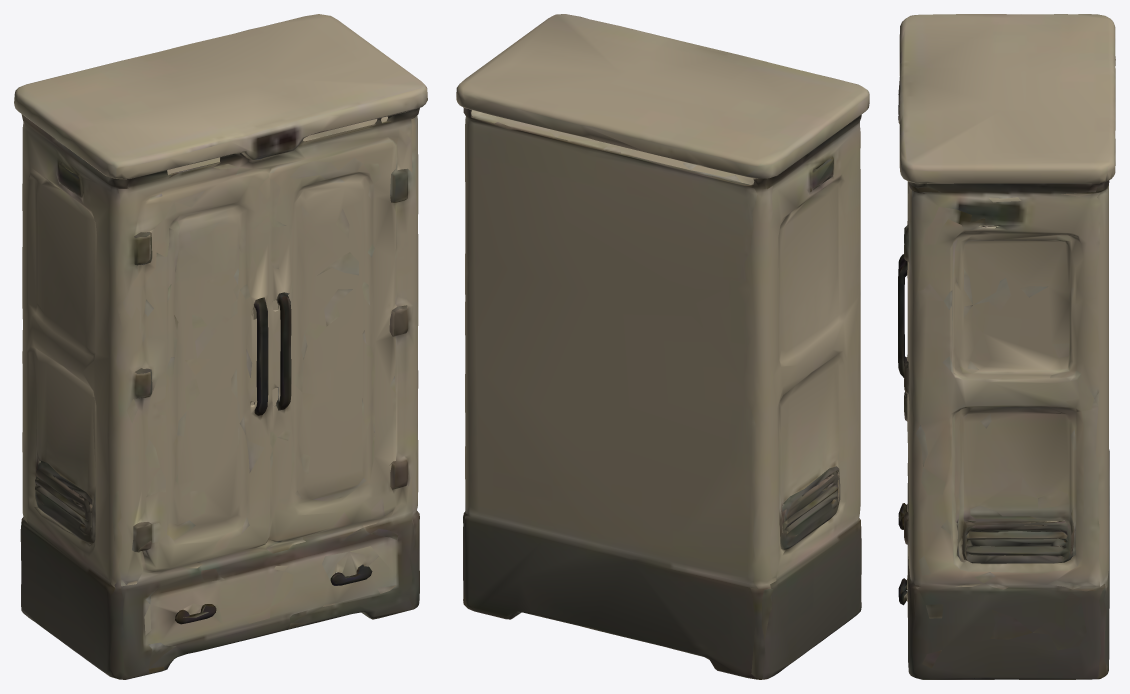
Rendered from wardrobe.glb.
3 renders of one model, left to right at view 1: azimuth 30°, elevation 25°; view 2: azimuth 150°, elevation 25°; view 3: azimuth 270°, elevation 25°, orthographic.
Parts seen in each view (by area): view 1: geometry_0; view 2: geometry_0; view 3: geometry_0.
Part boxes in pixels (left/top/right/bottom): geometry_0: left=14, top=14, right=427, bottom=679; geometry_0: left=456, top=14, right=869, bottom=679; geometry_0: left=898, top=14, right=1115, bottom=679.
Size of the model in its own units: 0.645 by 1 by 0.3827.
1 material, 1 textured.
